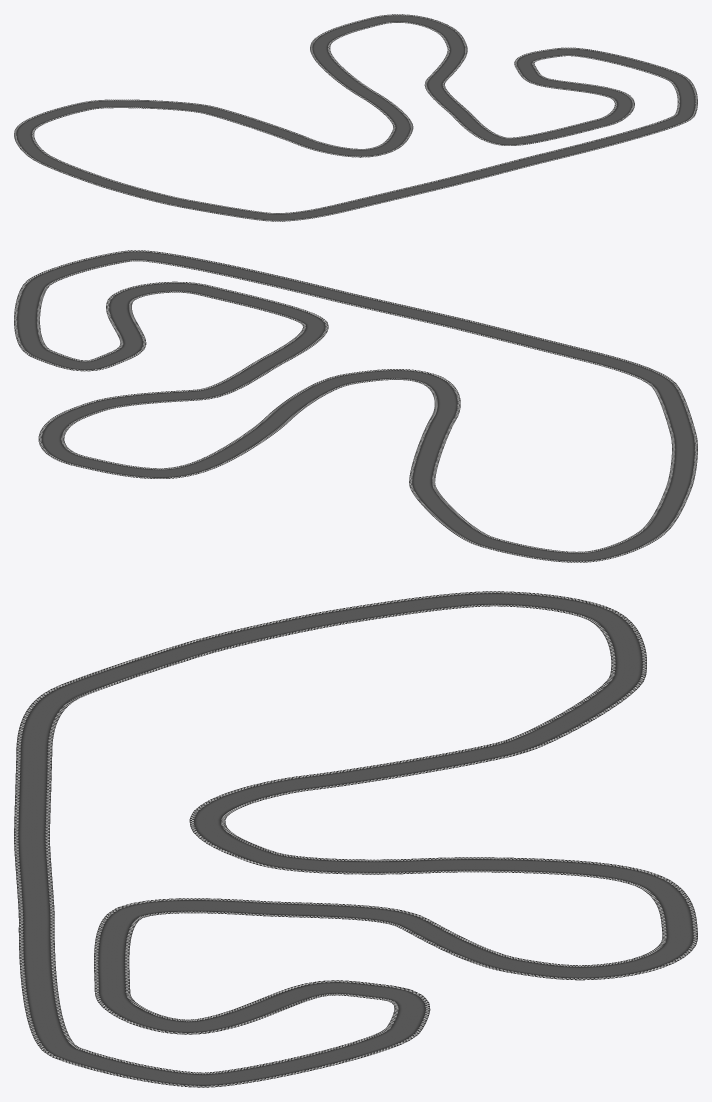
The model's file is racetrack.glb.
3 views of the same model, one above another, from view 1: azimuth 30°, elevation 25°; view 2: azimuth 150°, elevation 25°; view 3: azimuth 270°, elevation 25° (orthographic). The views are drawn at different scales.
Parts seen in each view (by area): view 1: Plane; view 2: Plane; view 3: Plane.
Boxes of the visible parts, x1,y1,x2,y2 form: Plane: [14, 14, 697, 221]; Plane: [14, 250, 697, 562]; Plane: [14, 591, 697, 1087].
Bounding box in the file's own units: 393 × 3.58e-07 × 229.
Materials: 1 (1 with a texture image).
